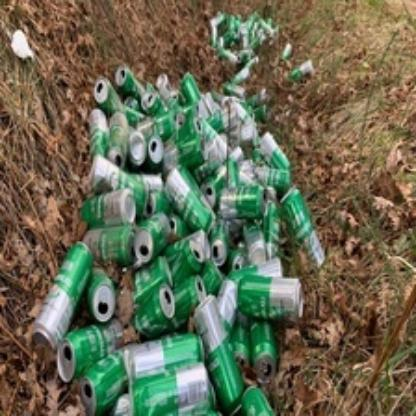Can: (196, 295, 250, 415), (31, 240, 89, 349), (114, 360, 216, 416), (117, 326, 203, 384), (76, 340, 140, 416), (58, 316, 124, 382), (280, 184, 326, 276), (163, 164, 211, 230), (236, 275, 304, 317), (132, 282, 178, 338), (78, 190, 138, 228), (82, 223, 136, 263), (132, 213, 170, 267), (250, 316, 280, 380), (86, 263, 116, 325), (92, 76, 124, 116)
